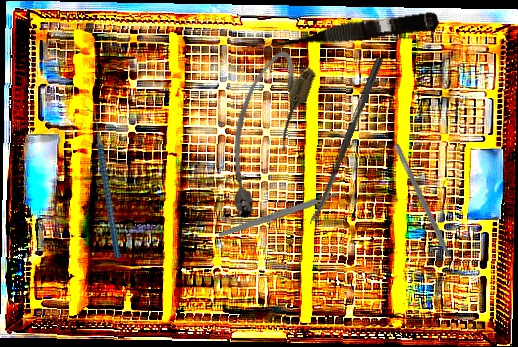Cannula: (203, 44, 321, 225)
Chopper: (58, 105, 146, 259)
Micro Scissor: (263, 6, 441, 55)
Scalpel Handle: (217, 190, 340, 239)
Spatula Surgical: (387, 143, 461, 275)
Surgical Spoon: (308, 56, 384, 226)
